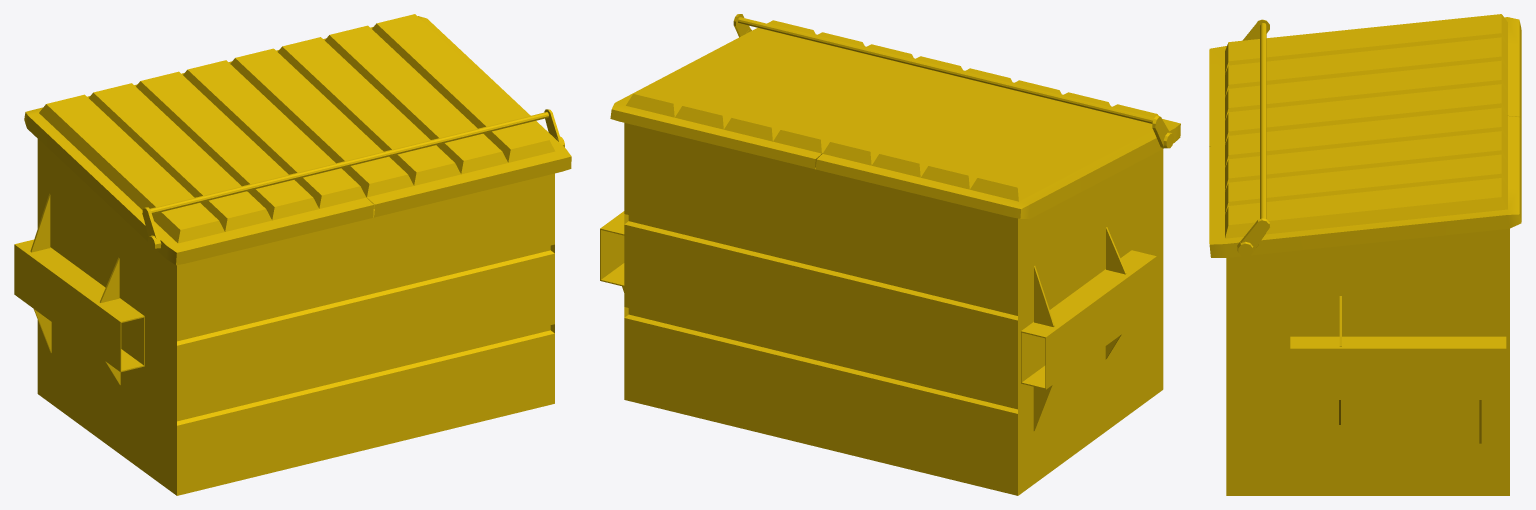
The model's file is Dumpster.fbx.
3 renders of one model, left to right at view 1: azimuth 30°, elevation 25°; view 2: azimuth 150°, elevation 25°; view 3: azimuth 270°, elevation 25°, orthographic. The views are drawn at different scales.
Parts seen in each view (by area): view 1: Dumpster; view 2: Dumpster; view 3: Dumpster.
Boxes of the visible parts, bbox=[...] form: Dumpster: bbox=[14, 14, 571, 495]; Dumpster: bbox=[600, 14, 1180, 495]; Dumpster: bbox=[1209, 14, 1521, 495].
Size of the model in its own units: 162 by 106 by 101.
